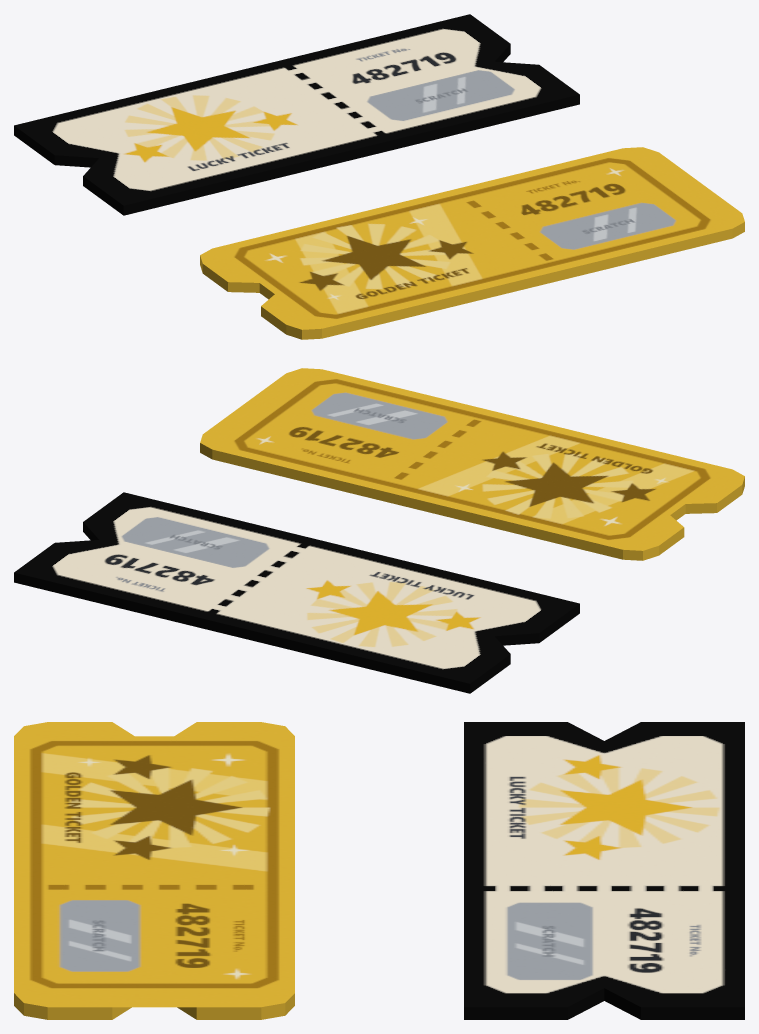
Rendered from FWL_Tickets.glb.
The picture shows the model from 3 angles, top to bottom: view 1: azimuth 30°, elevation 25°; view 2: azimuth 150°, elevation 25°; view 3: azimuth 270°, elevation 25°; orthographic projection. The views are drawn at different scales.
Visible parts, largest first — view 1: Ticket_Regular, Ticket_Golden; view 2: Ticket_Regular, Ticket_Golden; view 3: Ticket_Regular, Ticket_Golden.
Boxes of the visible parts, left/top/right/bottom form: Ticket_Regular: left=14, top=14, right=579, bottom=215; Ticket_Golden: left=200, top=147, right=744, bottom=339; Ticket_Regular: left=14, top=492, right=579, bottom=693; Ticket_Golden: left=200, top=368, right=744, bottom=560; Ticket_Regular: left=464, top=722, right=744, bottom=1019; Ticket_Golden: left=14, top=722, right=294, bottom=1019.
Size of the model in its own units: 2.4 by 0.05 by 2.6.
Materials: 2 (2 with a texture image).
